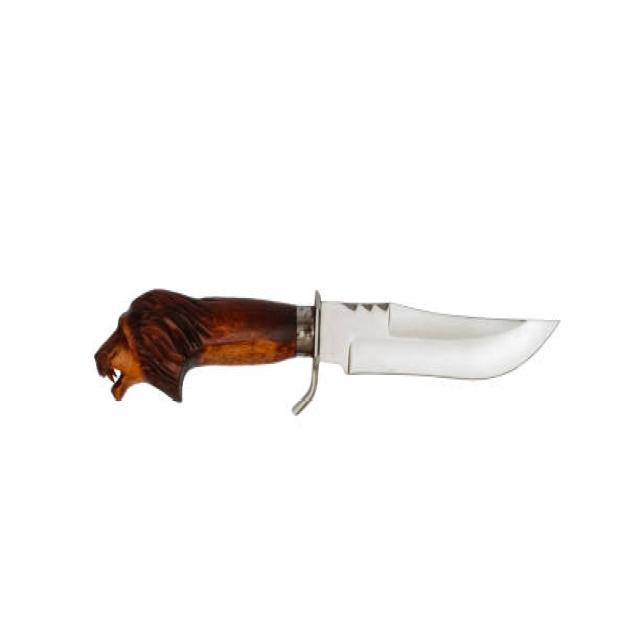knife: (86, 267, 566, 448)
